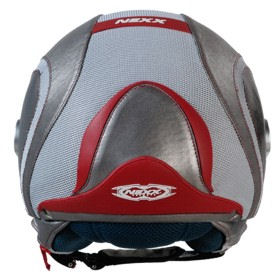helmet: (13, 10, 269, 264)
